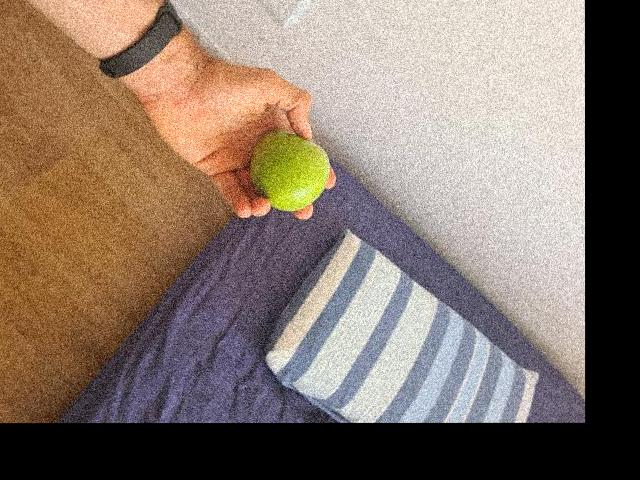apple: (242, 134, 332, 211)
